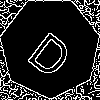D: (25, 22, 81, 81)
